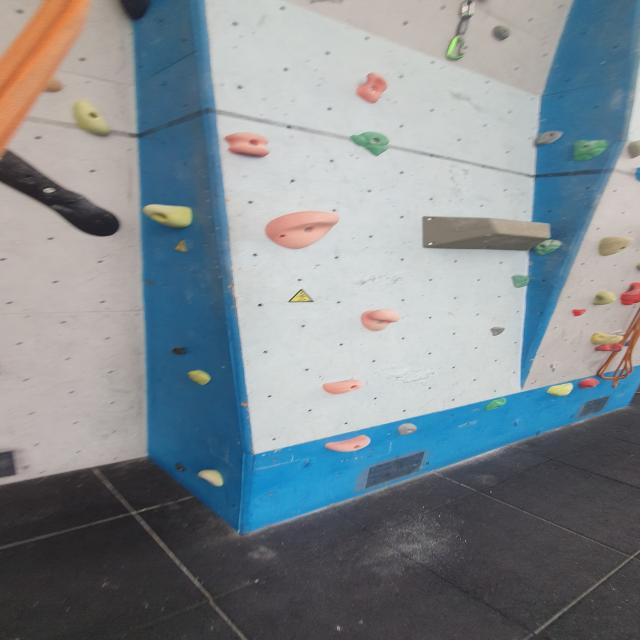Crimp: (347, 131, 394, 157), (322, 435, 373, 456), (321, 379, 367, 395), (397, 424, 421, 436), (569, 309, 588, 319)
Jug: (222, 131, 274, 161), (144, 202, 196, 230), (352, 75, 391, 106), (359, 310, 402, 333), (196, 467, 227, 486), (618, 280, 640, 306)
Pinch: (67, 99, 123, 138), (570, 136, 610, 162), (509, 273, 532, 290)
Sloper: (0, 147, 125, 238), (262, 209, 343, 252), (587, 331, 624, 347), (578, 377, 602, 391)
